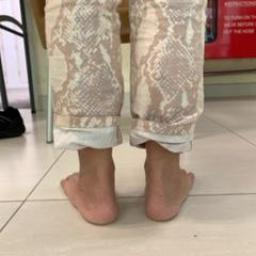Back View -Both Feet-: (51, 150, 205, 235)
